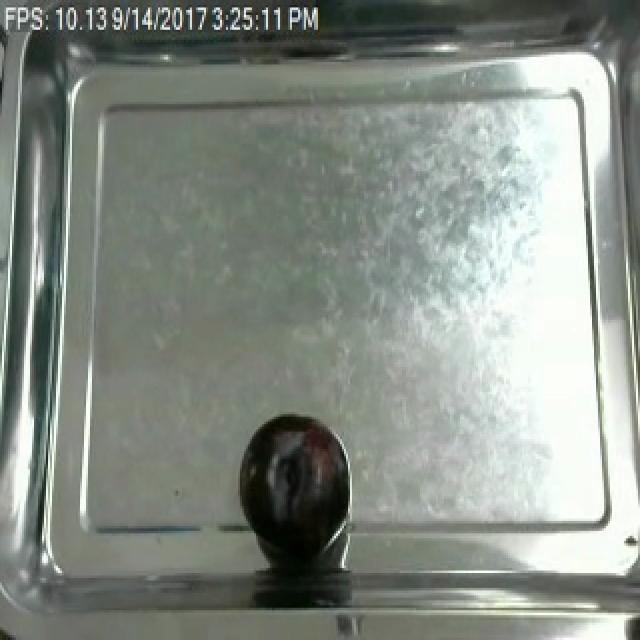Fruit: (238, 409, 350, 551)
